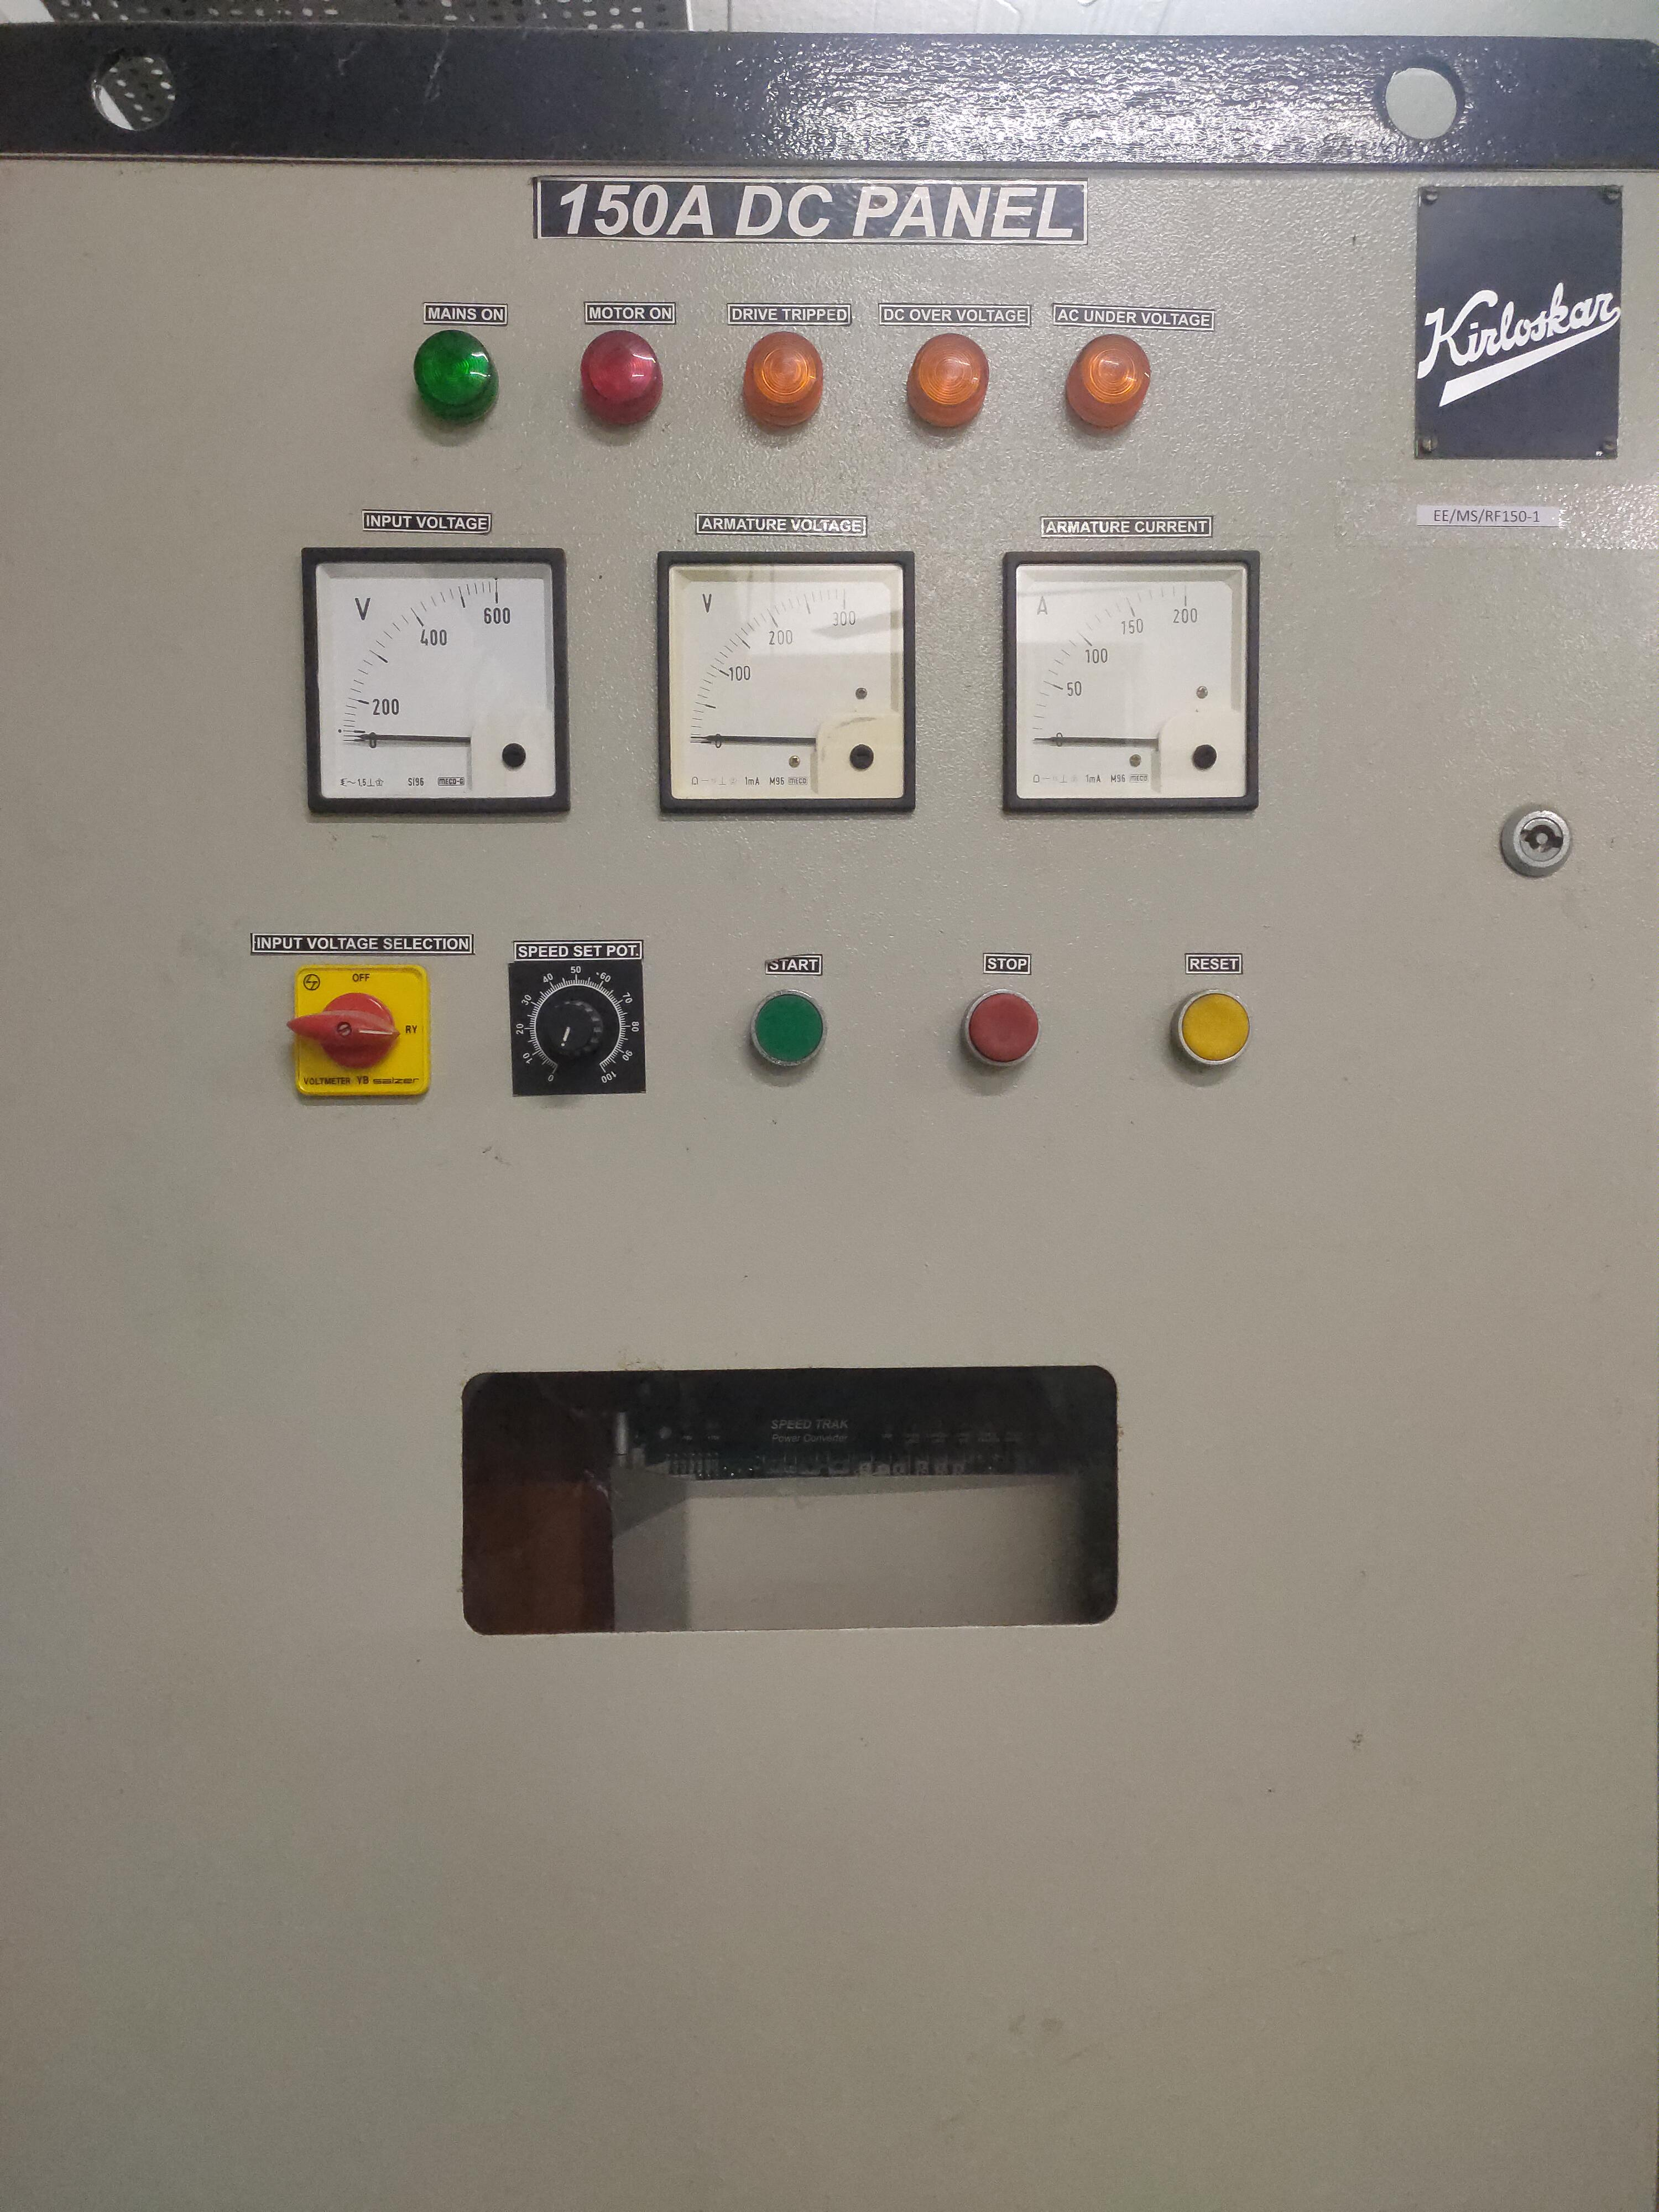Light Indications: (371, 268, 1190, 481)
